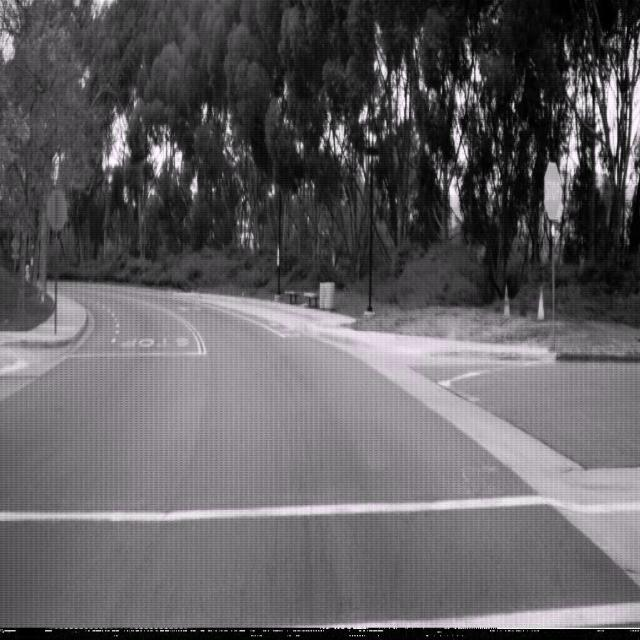stop: (543, 160, 562, 220)
